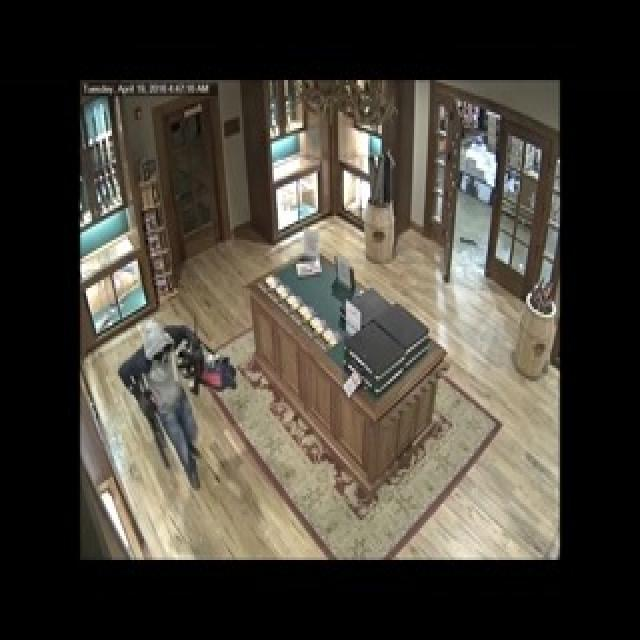thief: (126, 322, 220, 486)
